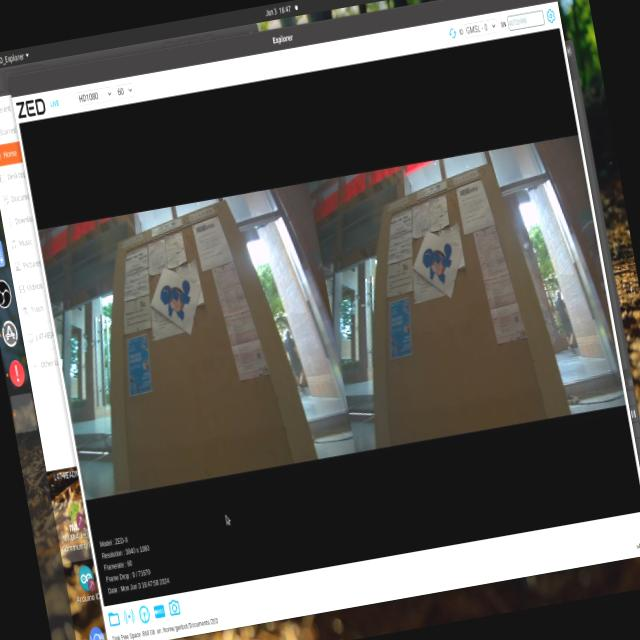blue: (411, 230, 466, 284), (148, 264, 194, 320)
